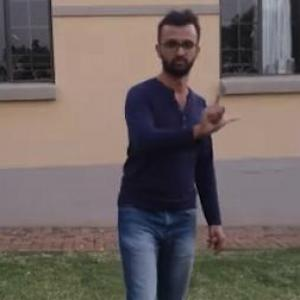land_hand: (192, 80, 243, 140)
